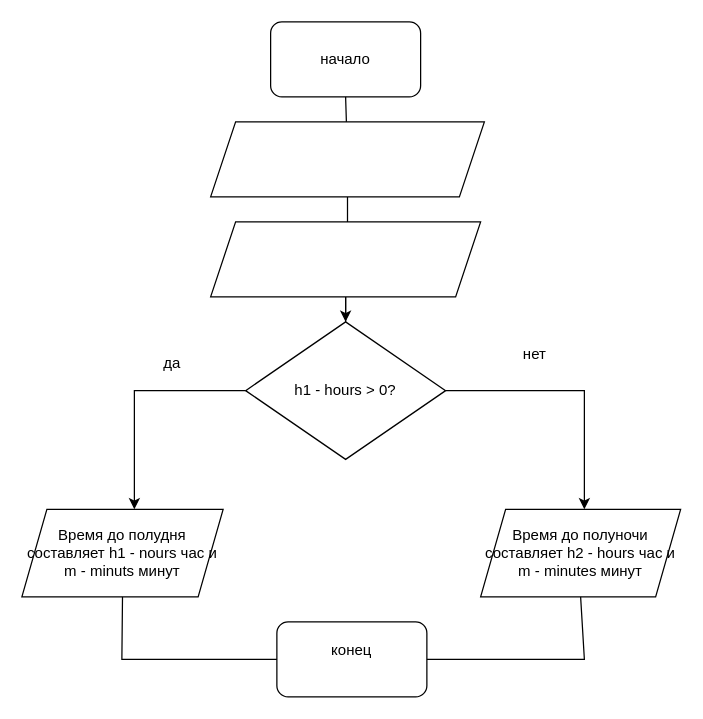
Some shapes in this 703 by 719 pixel diagram are drawn without their labels. Here are the shapes that lost their labels. From the top down, the centre of each, then its label:
[346,159]: h1 = 12, m = 60, h2 = 24
[345,259]: hours, minutes
